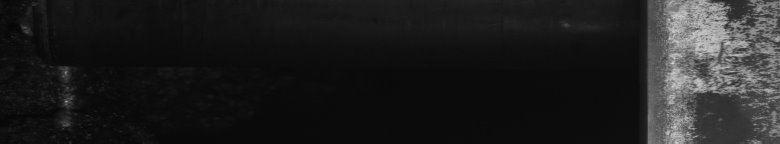kb: (664, 4, 776, 136)
